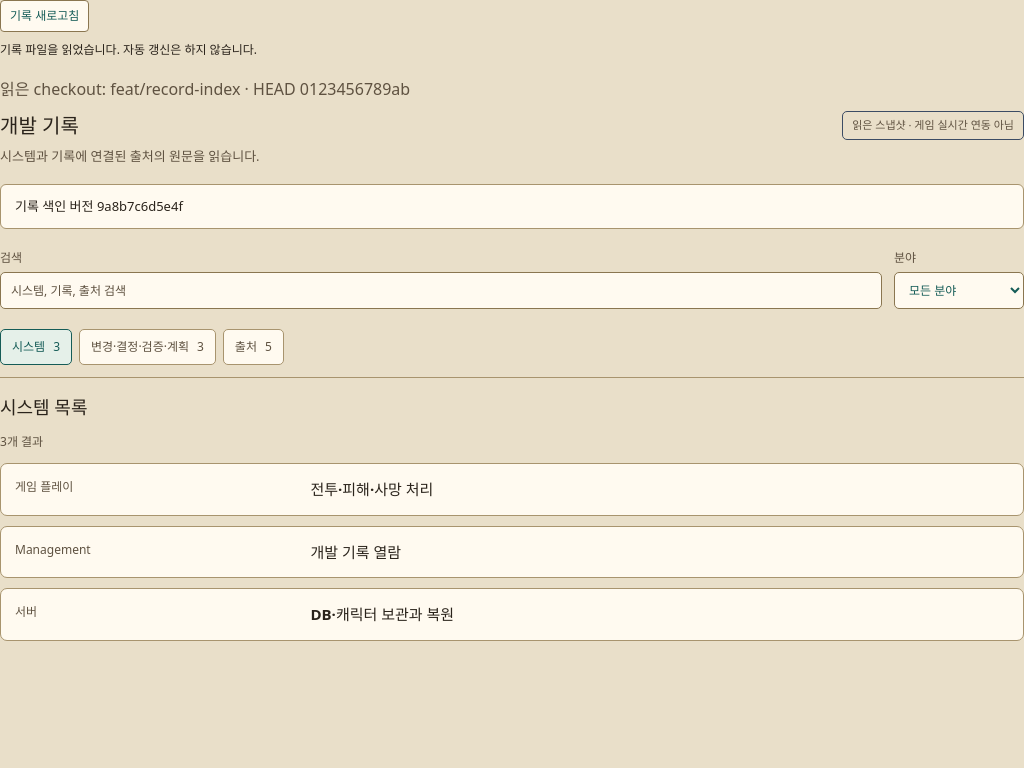
details › shows a system with area, related systems, linked records and an always-open 원문 list
Check: the search field labelled "검색" is shown, box [0,272,882,309]
Click the button "Management 개발 기록 열람": [53, 549] box [0,526,1023,578]
(page scrolled)
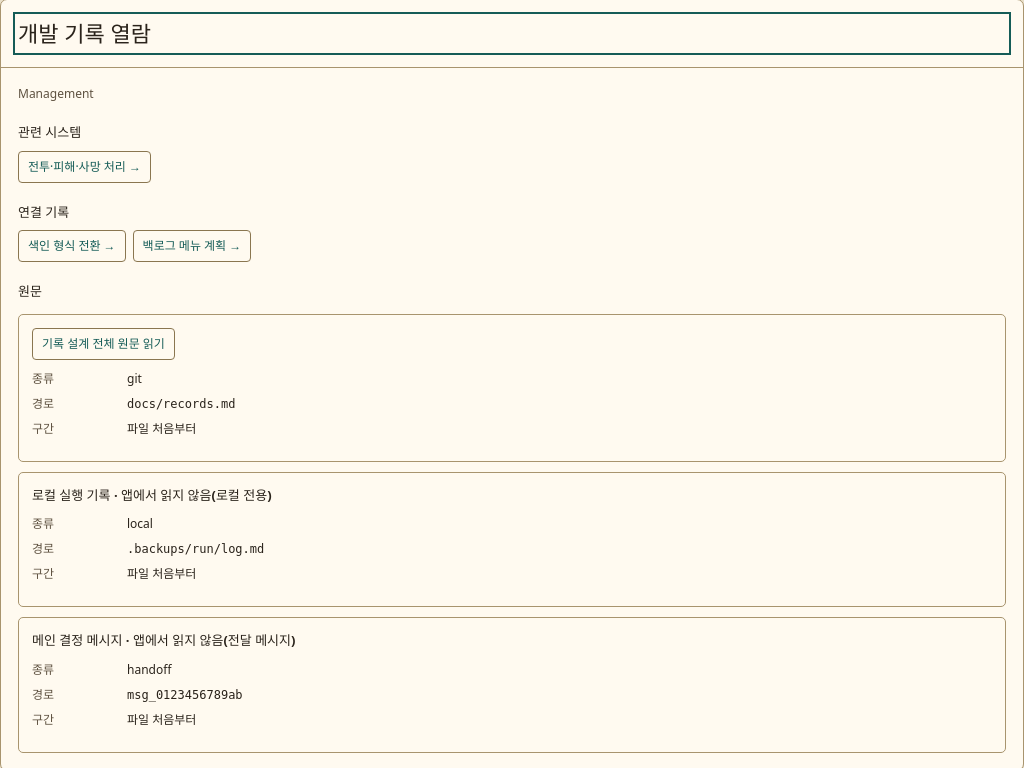
Check: the heading "관련 시스템" is shown, box [18,123,81,141]
Check: the heading "연결 기록" is shown, box [18,202,69,220]
Check: the heading "원문" is shown, box [18,282,42,300]
